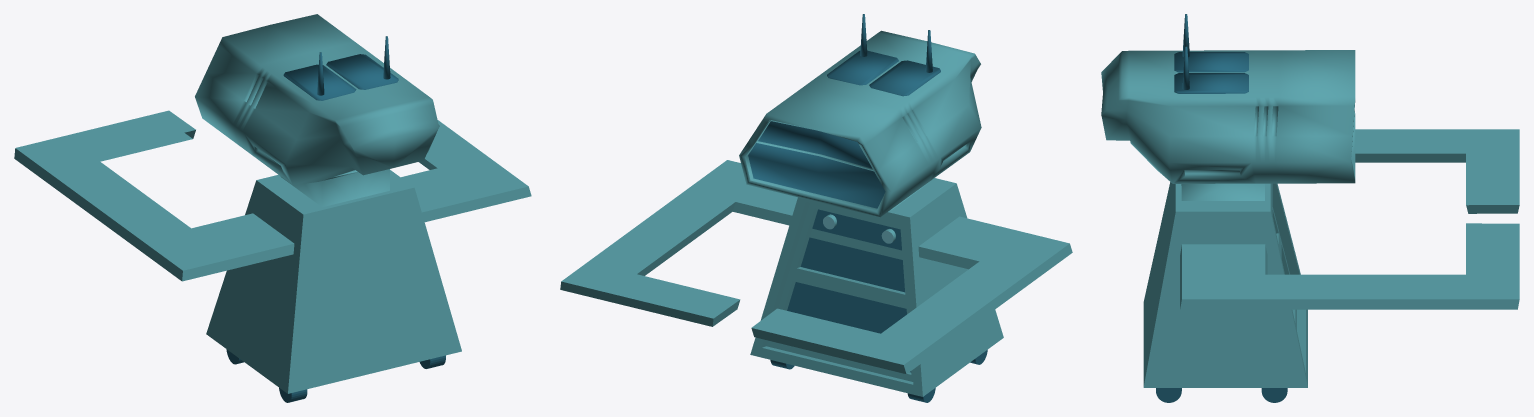
The model's file is Robot.fbx.
3 renders of one model, left to right at view 1: azimuth 30°, elevation 25°; view 2: azimuth 150°, elevation 25°; view 3: azimuth 270°, elevation 25°, orthographic.
Visible parts, largest first — view 1: Cube.002; view 2: Cube.002; view 3: Cube.002.
Part boxes in pixels (bbox=[...]): Cube.002: bbox=[14, 14, 531, 402]; Cube.002: bbox=[560, 14, 1072, 402]; Cube.002: bbox=[1101, 14, 1519, 402].
Bounding box in the file's own units: 856 × 777 × 882.
